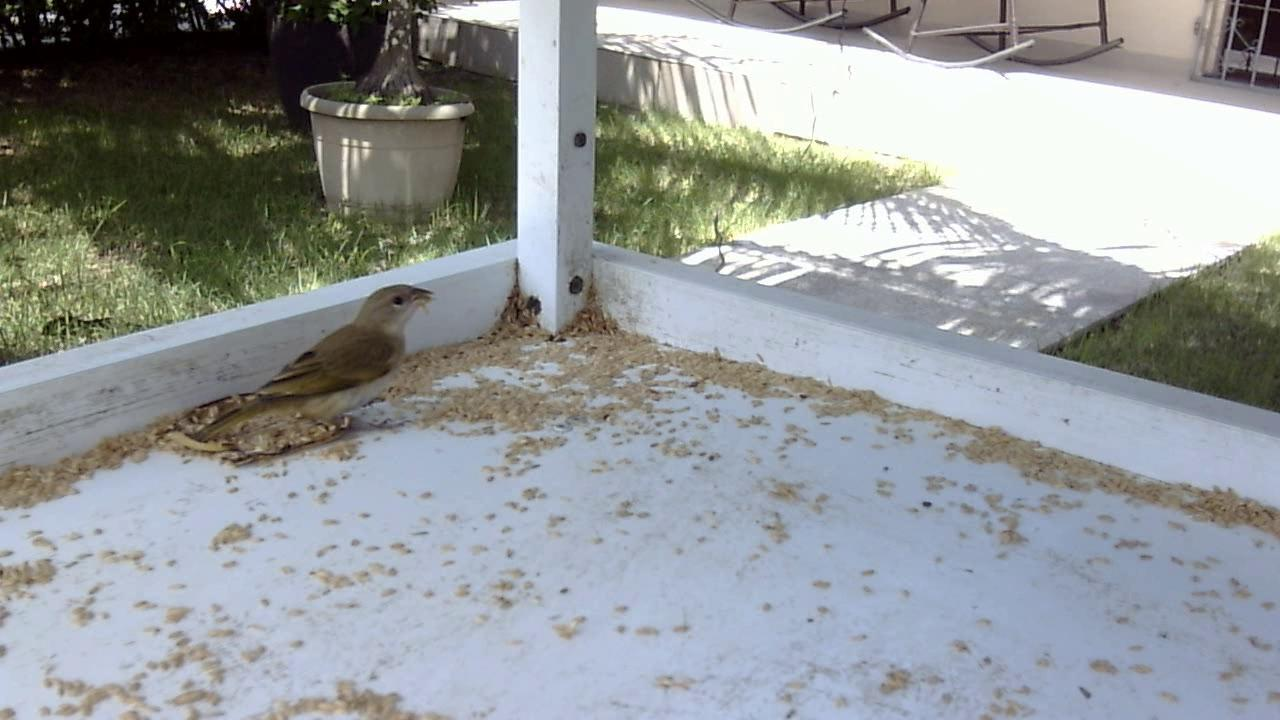canario_do_amazonas: (170, 286, 444, 467)
